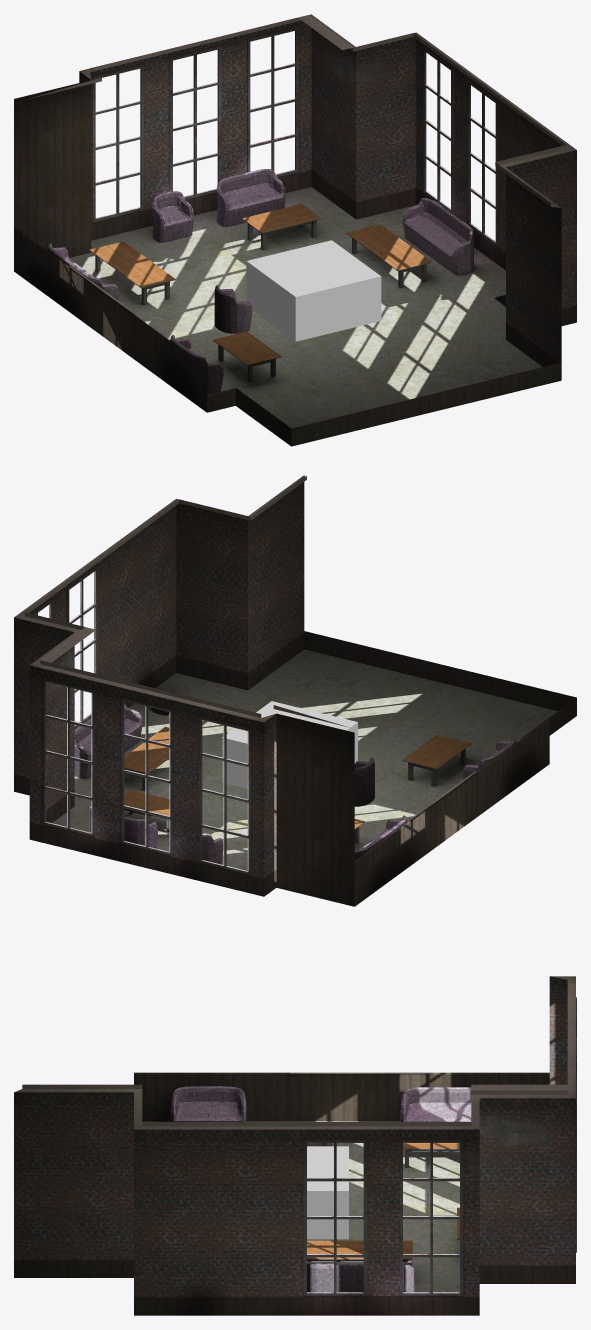
The picture shows the model from 3 angles, top to bottom: view 1: azimuth 30°, elevation 25°; view 2: azimuth 150°, elevation 25°; view 3: azimuth 270°, elevation 25°; orthographic projection. The views are drawn at different scales.
Parts seen in each view (by area): view 1: Object_3, Object_2, Cube; view 2: Object_3, Object_2, Cube; view 3: Object_3, Object_2, Cube.
Part boxes in pixels (left/top/right/bottom): Object_3: left=14, top=14, right=576, bottom=446; Object_2: left=47, top=169, right=473, bottom=394; Cube: left=246, top=240, right=381, bottom=341; Object_3: left=14, top=475, right=576, bottom=906; Object_2: left=74, top=702, right=516, bottom=864; Cube: left=222, top=701, right=357, bottom=788; Object_3: left=14, top=976, right=576, bottom=1315; Object_2: left=170, top=1086, right=471, bottom=1292; Cube: left=307, top=1146, right=348, bottom=1239.
Bounding box in the file's own units: 8.68 × 4.95 × 10.61.
2 materials, 1 textured.
